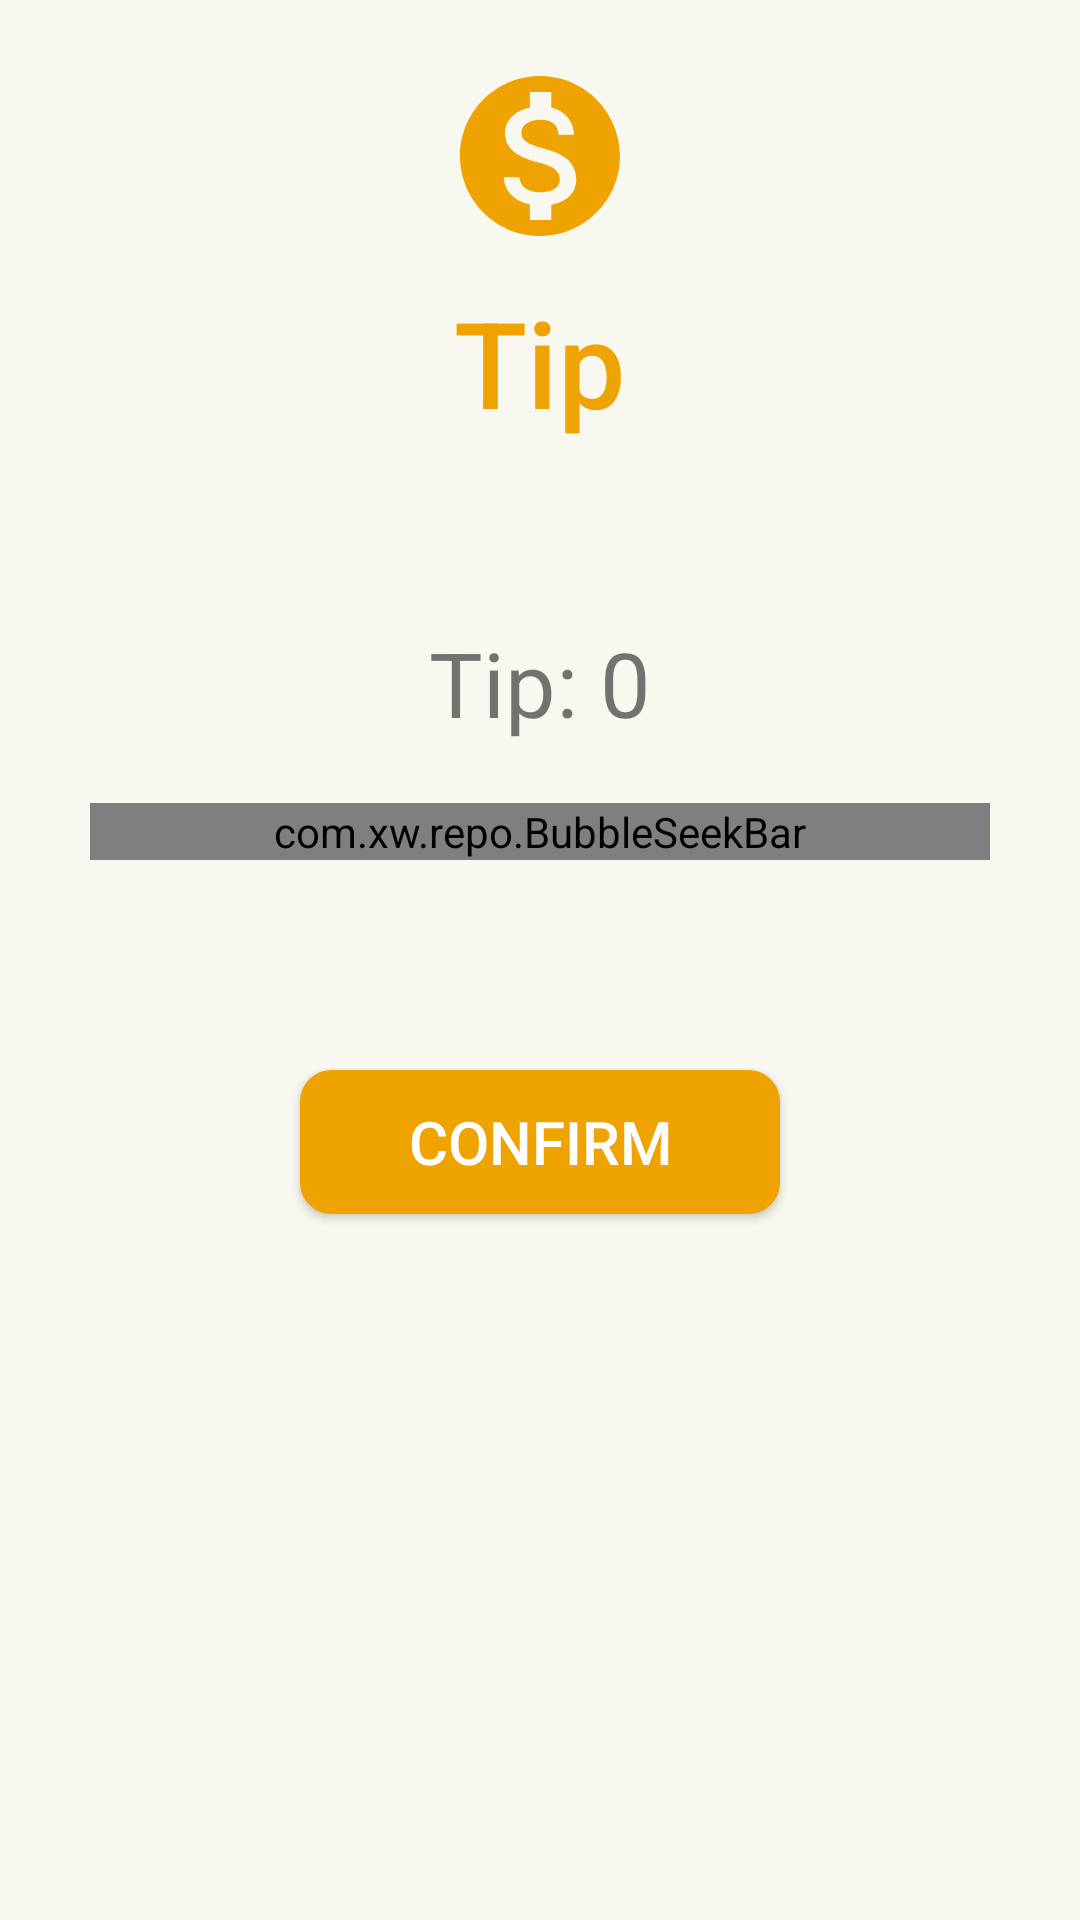

Screen size 1080x1920. Icon name, then its center in pixels as point (x, y):
tipicon: point (540, 156)
